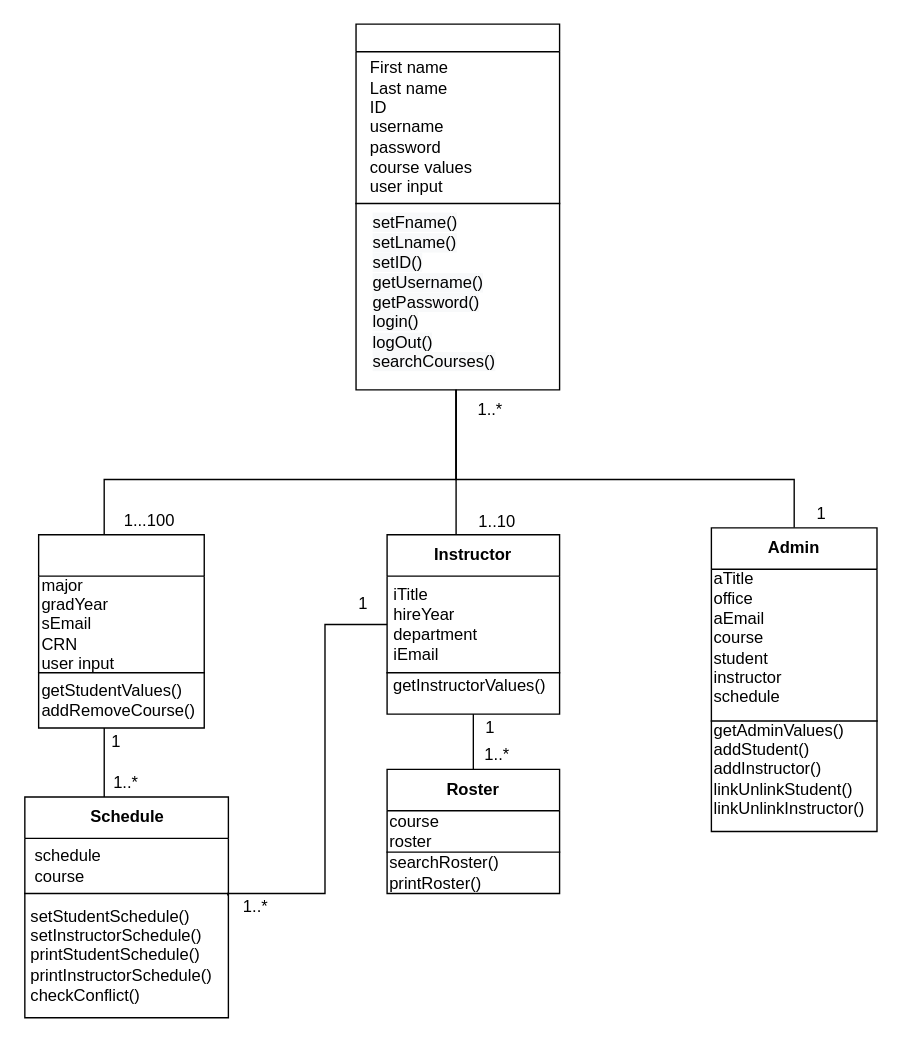
Image size: 901x1042. Some labels were removed from this diagram. The centre of each missing label's shape, as x and y in pixels:
"Student" belongs at (x=120, y=630).
"User" belongs at (x=457, y=206).
